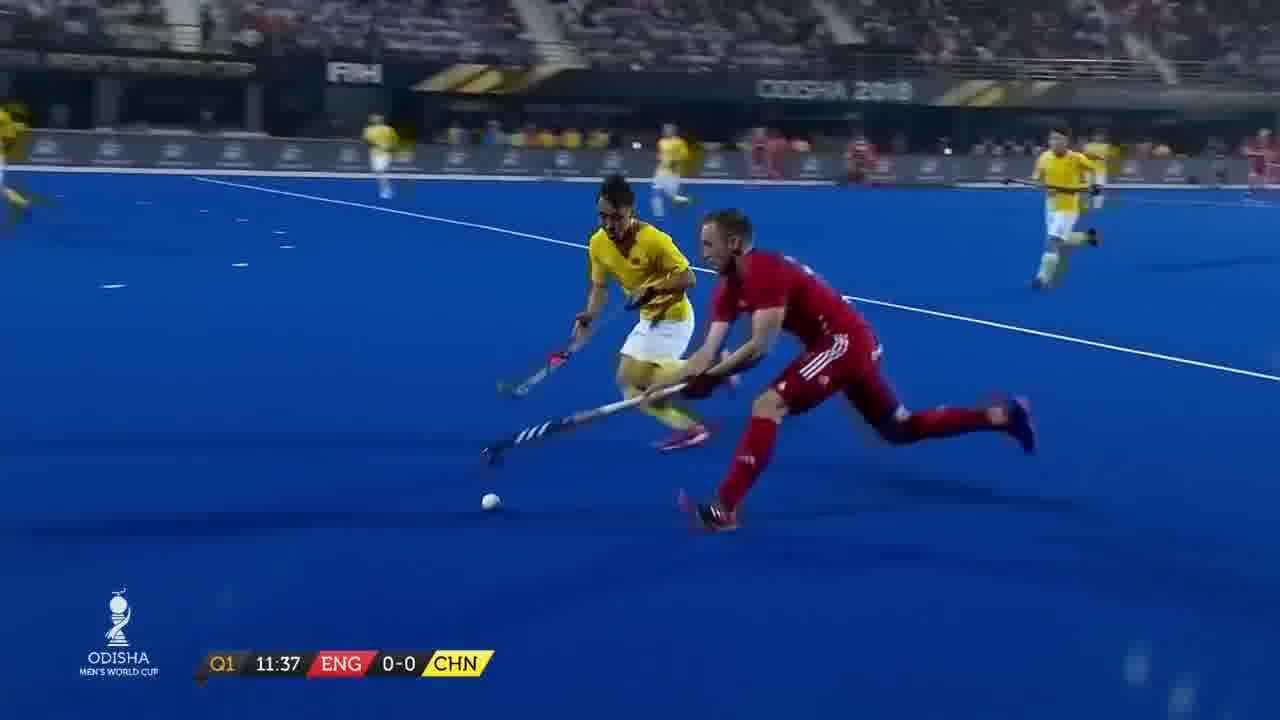ball: (481, 492, 505, 521)
